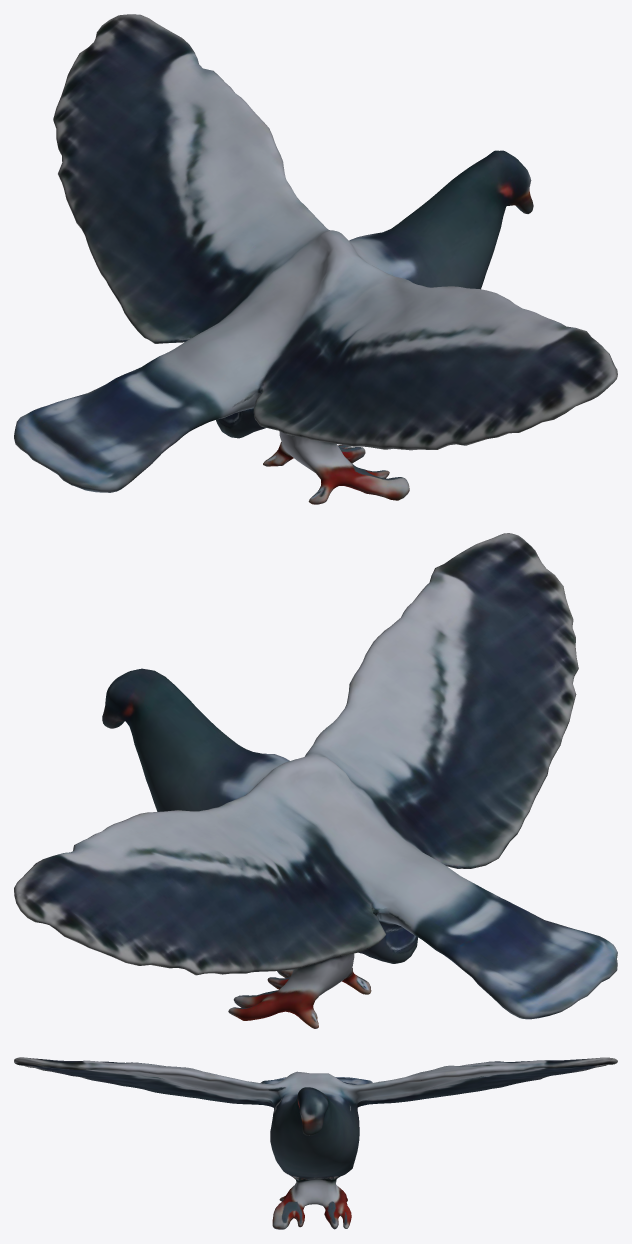
File: 9081a0d301e1_pigeon_flying__3d_a.fbx
3 views of the same model, one above another, from view 1: azimuth 30°, elevation 25°; view 2: azimuth 150°, elevation 25°; view 3: azimuth 270°, elevation 25° (orthographic). The views are drawn at different scales.
Parts seen in each view (by area): view 1: mesh; view 2: mesh; view 3: mesh.
Boxes of the visible parts, x1,y1,x2,y2 form: mesh: [14, 14, 617, 504]; mesh: [14, 533, 617, 1028]; mesh: [14, 1057, 617, 1229].
Bounding box in the file's own units: 56.13 × 32.11 × 99.47.
